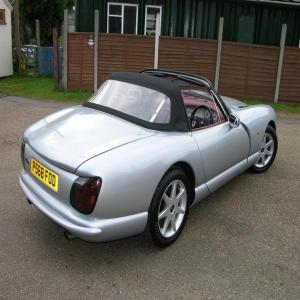Vehicle-registration-plate: (30, 158, 59, 194)
